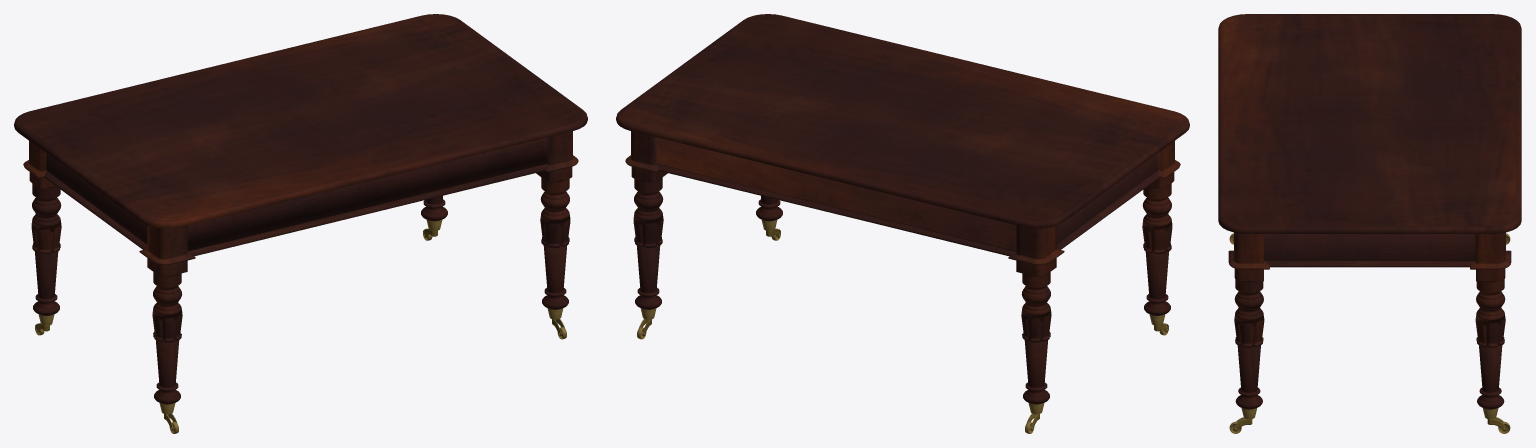
3 views of the same model, side by side, from view 1: azimuth 30°, elevation 25°; view 2: azimuth 150°, elevation 25°; view 3: azimuth 270°, elevation 25° (orthographic).
Visible parts, largest first — view 1: Table Top, Legs and Rails, Brass Wheels; view 2: Table Top, Legs and Rails, Brass Wheels; view 3: Table Top, Legs and Rails, Brass Wheels.
Boxes of the visible parts, <box> form: Table Top: <box>14,14,587,228</box>; Legs and Rails: <box>23,131,578,404</box>; Brass Wheels: <box>35,219,566,433</box>; Table Top: <box>616,14,1189,228</box>; Legs and Rails: <box>625,131,1180,404</box>; Brass Wheels: <box>637,219,1168,433</box>; Table Top: <box>1218,14,1521,233</box>; Legs and Rails: <box>1228,232,1511,409</box>; Brass Wheels: <box>1229,233,1510,433</box>.
Size of the model in its own units: 13.71 by 6.46 by 8.14.
3 materials, 3 textured.
